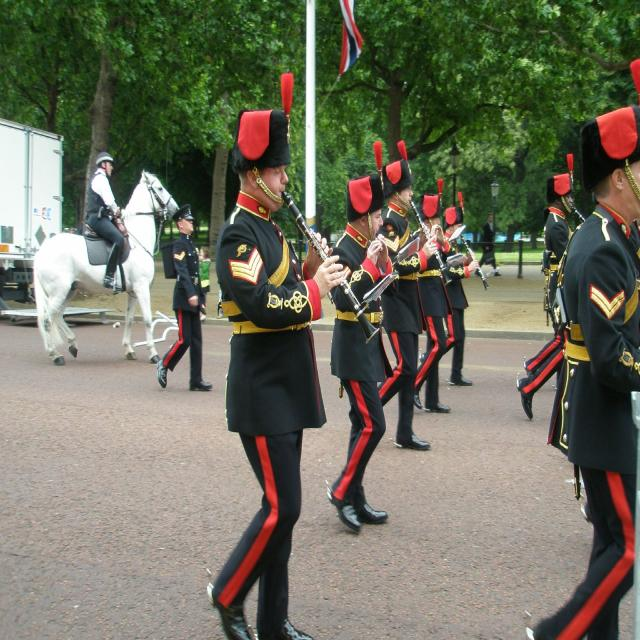clarinet: (278, 190, 384, 348), (408, 198, 456, 291), (458, 232, 492, 292)
